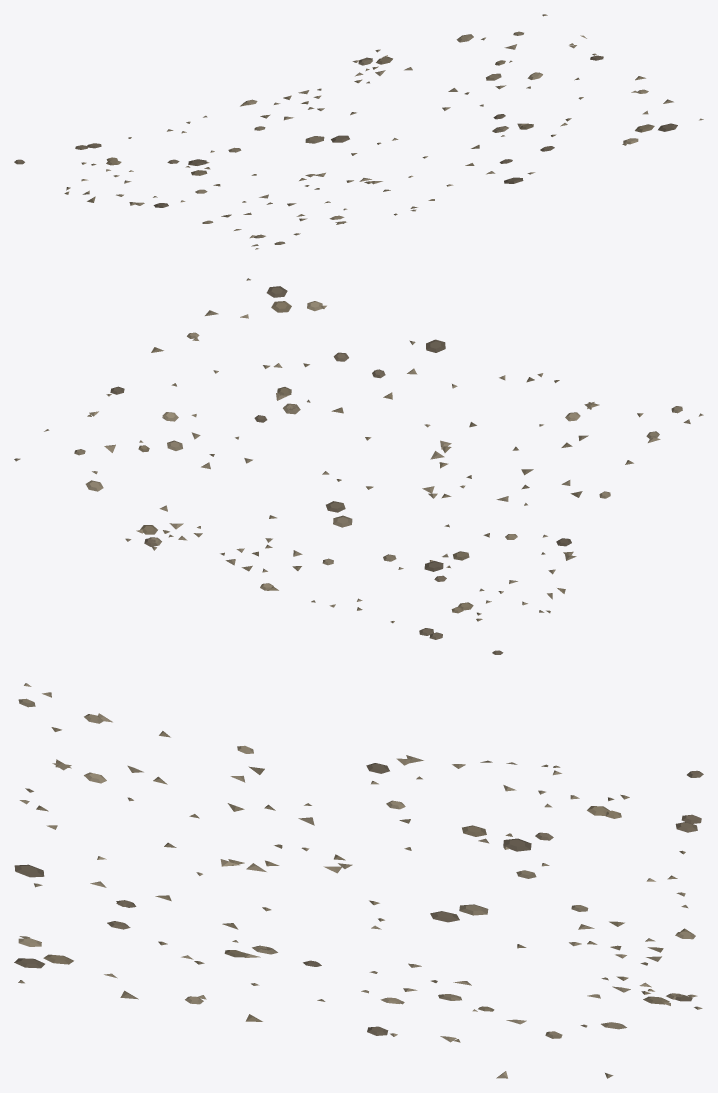
Rendered from dam_apron_kicker_detail2.glb.
3 views of the same model, one above another, from view 1: azimuth 30°, elevation 25°; view 2: azimuth 150°, elevation 25°; view 3: azimuth 270°, elevation 25° (orthographic). The views are drawn at different scales.
Parts seen in each view (by area): view 1: dam_apron_kicker_detail2; view 2: dam_apron_kicker_detail2; view 3: dam_apron_kicker_detail2.
Boxes of the visible parts, box(x1,y1,x2,y2) form: dam_apron_kicker_detail2: box(14, 14, 703, 249); dam_apron_kicker_detail2: box(14, 278, 703, 654); dam_apron_kicker_detail2: box(14, 683, 703, 1078).
Size of the model in its own units: 25.84 by 4.46 by 19.8.
